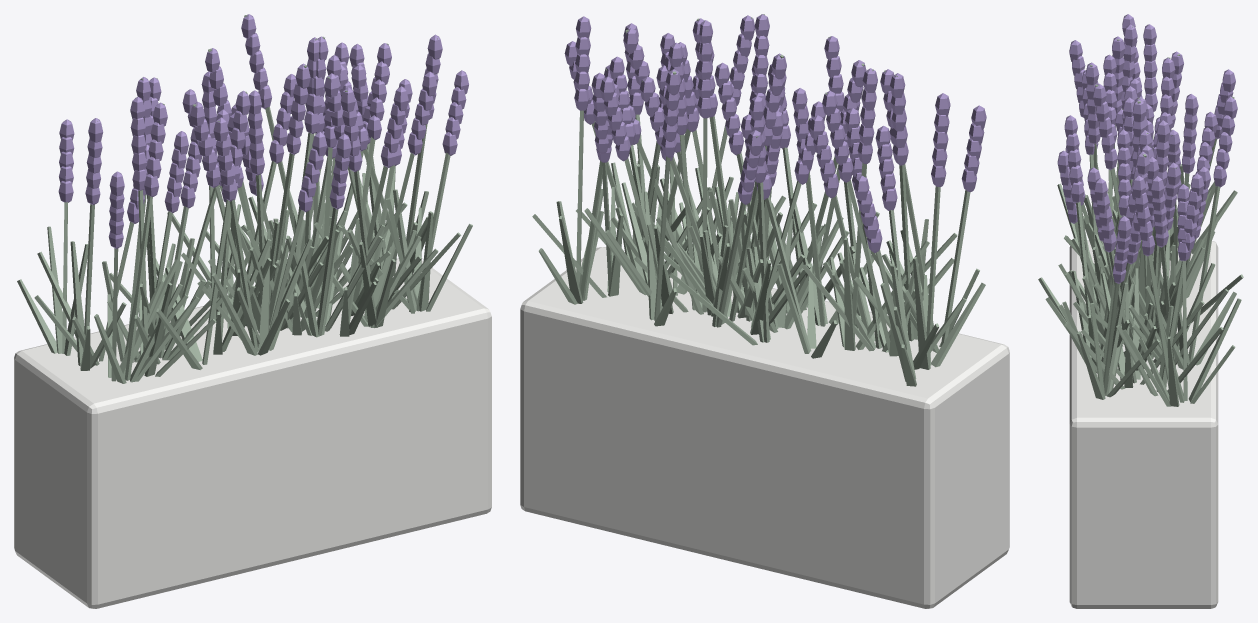
The picture shows the model from 3 angles, left to right: view 1: azimuth 30°, elevation 25°; view 2: azimuth 150°, elevation 25°; view 3: azimuth 270°, elevation 25°; orthographic projection. The views are drawn at different scales.
Visible parts, largest first — view 1: pot, lf, f; view 2: pot, lf, f; view 3: pot, f, lf.
Boxes of the visible parts, x1=… form: pot: x1=14, y1=258, x2=491, y2=608; lf: x1=17, y1=14, x2=472, y2=383; f: x1=58, y1=14, x2=468, y2=248; pot: x1=520, y1=247, x2=1009, y2=608; lf: x1=532, y1=14, x2=985, y2=386; f: x1=564, y1=14, x2=986, y2=252; pot: x1=1069, y1=240, x2=1218, y2=608; f: x1=1057, y1=14, x2=1237, y2=283; lf: x1=1038, y1=16, x2=1243, y2=406.
Bounding box in the file's own units: 0.3524 × 0.4012 × 0.166.
